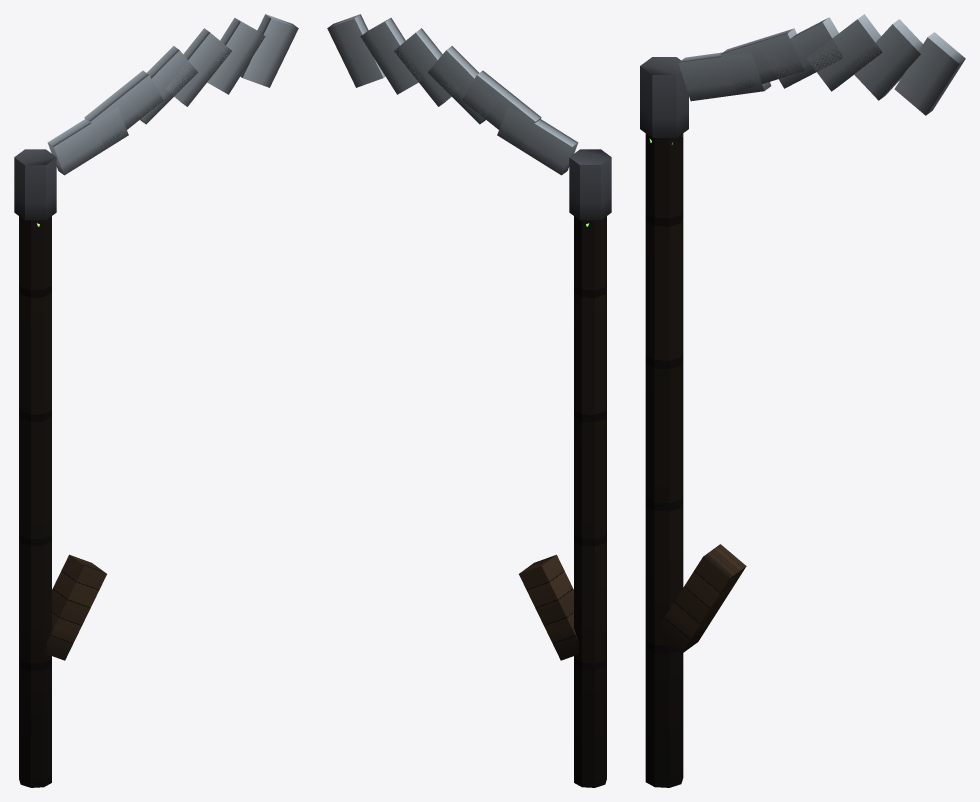
Rendered from scythe.gltf.
3 views of the same model, side by side, from view 1: azimuth 30°, elevation 25°; view 2: azimuth 150°, elevation 25°; view 3: azimuth 330°, elevation 25° (orthographic). The views are drawn at different scales.
Parts seen in each view (by area): view 1: scythe; view 2: scythe; view 3: scythe.
Part boxes in pixels (x1,y1,x2,y2): scythe: (14, 14, 298, 787); scythe: (327, 14, 611, 787); scythe: (640, 14, 965, 787).
Size of the model in its own units: 0.5238 by 1.29 by 0.07.
1 material, 1 textured.
